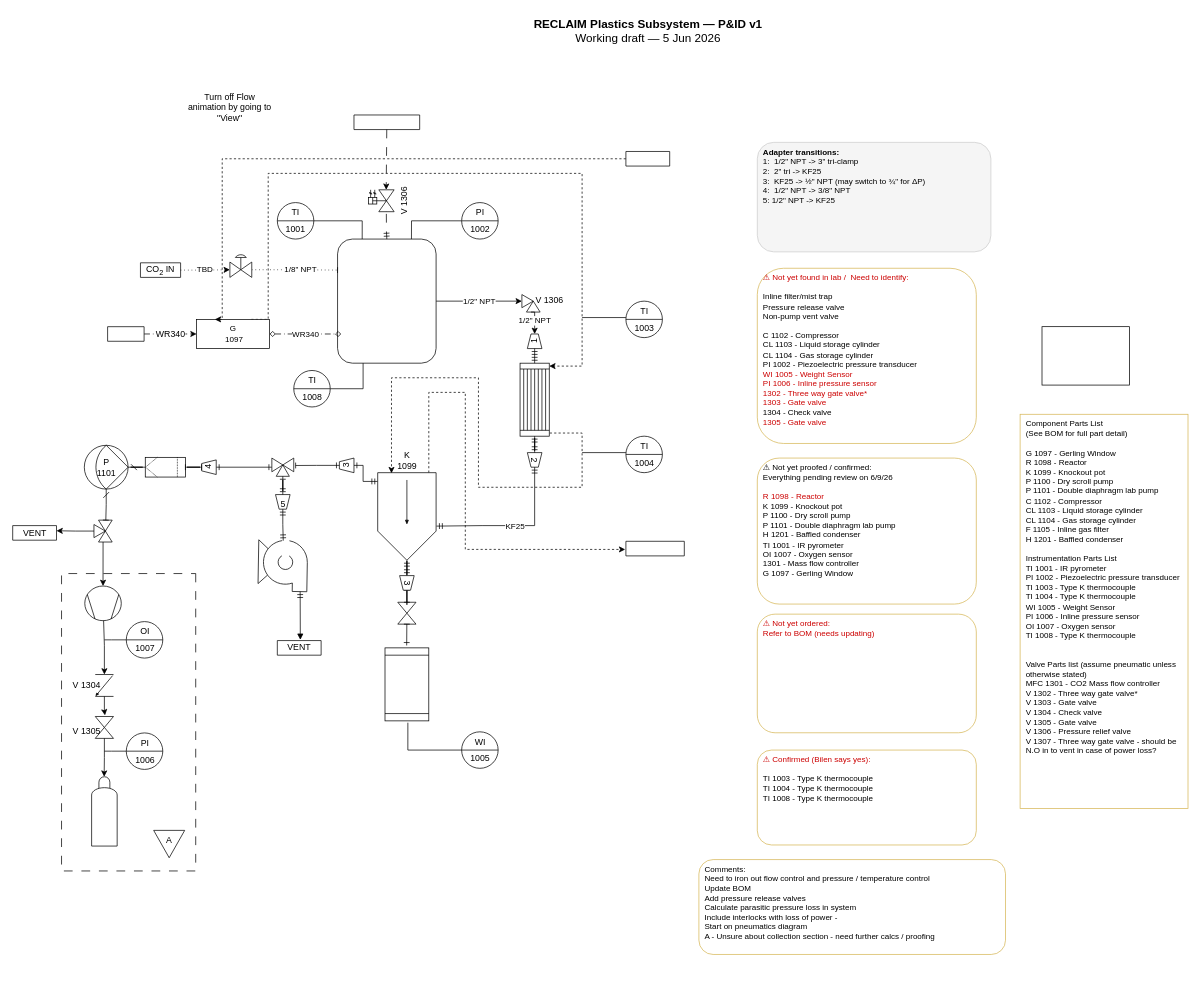
This 1201x983 diagram has some shape labels left out. Each missing label, with the centre of its shape:
"C 1102" belongs at (102,603).
"CC0000 FFA3A3 FFB366 FFFF66 66FF66" belongs at (1085,355).
"CL 1103" belongs at (406,684).
"CL 1104" belongs at (104,811).
"F 1105" belongs at (165,467).
"H 1201" belongs at (534,399).
"MFC 1301" belongs at (240,264).
"MW IN" belongs at (125,333).
"P 1100" belongs at (282,565).
"PLASTICS IN" belongs at (386,122).
"R 1098" belongs at (386,300).
"V 1032" belongs at (282,466).
"V 1303" belongs at (406,613).
"V 1307" belongs at (102,530).
"WATER IN" belongs at (647,158).
"WATER OUT" belongs at (654,548).
